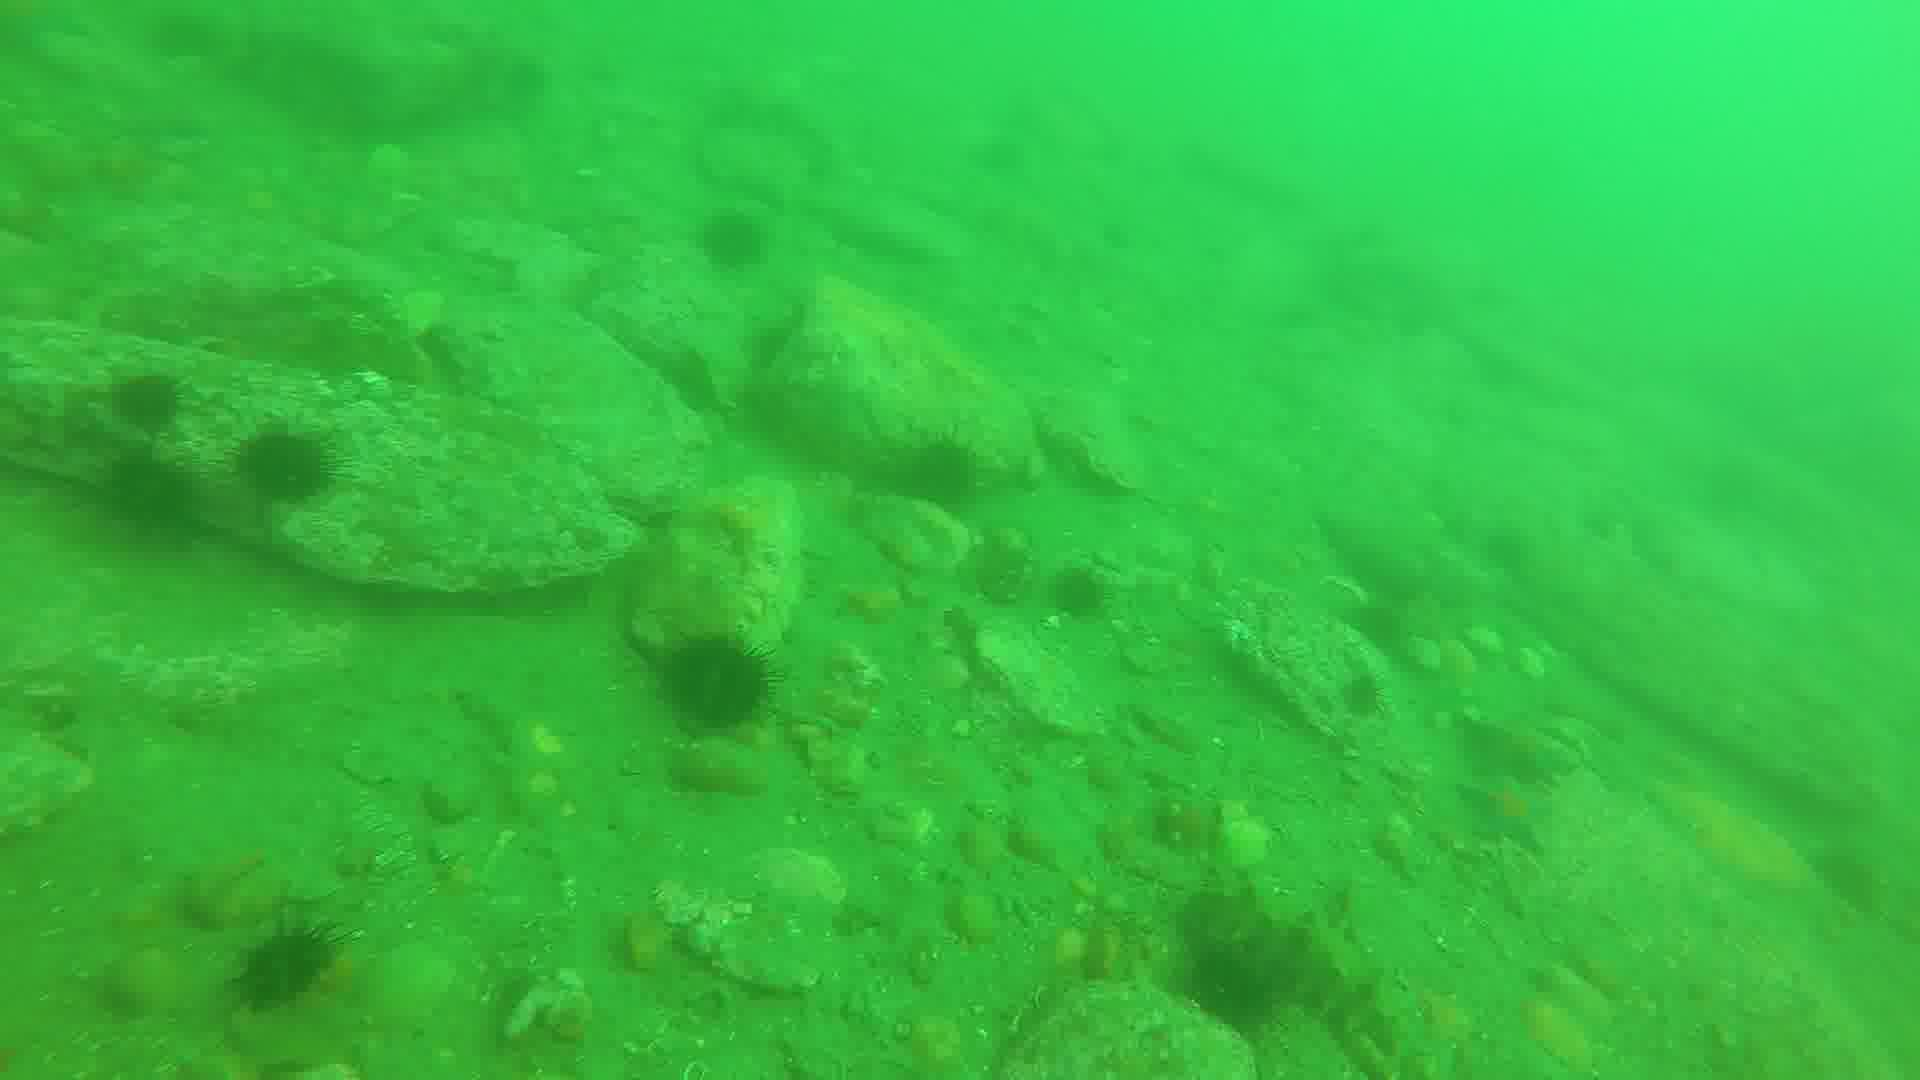echinus: (666, 626, 769, 731), (107, 458, 214, 546), (243, 916, 338, 998), (233, 431, 339, 504), (700, 204, 765, 276), (108, 373, 181, 434), (1060, 560, 1129, 620), (911, 442, 968, 504)
holothurian: (1193, 890, 1466, 1080)
